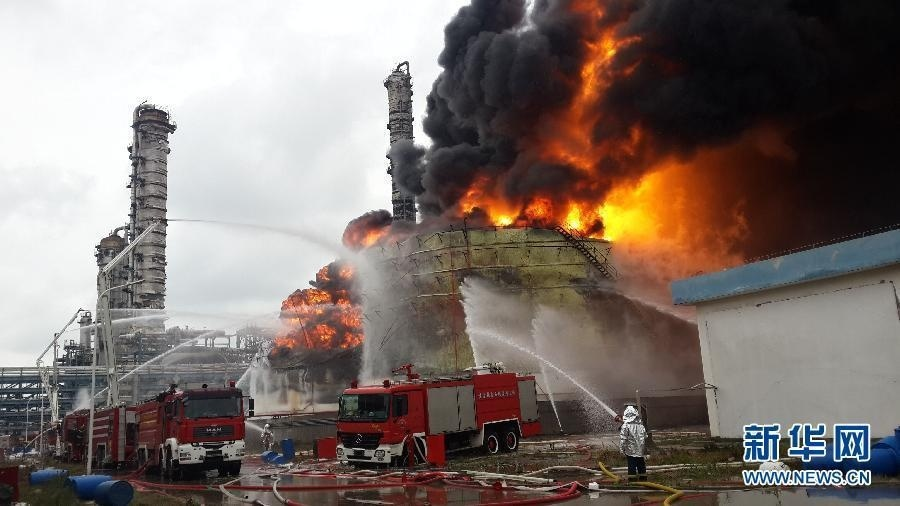fire: (459, 154, 730, 245), (273, 233, 381, 350), (352, 220, 390, 244)
